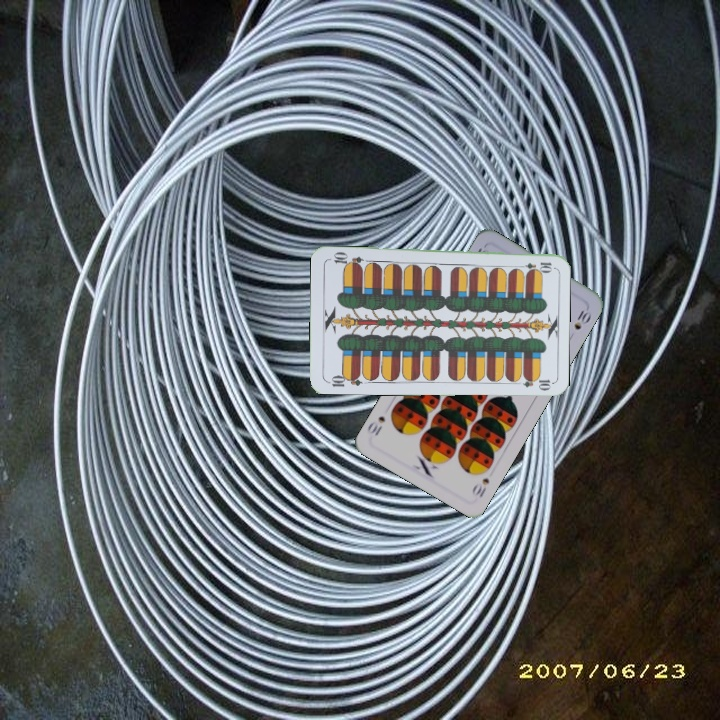E10: (324, 370, 364, 389), (514, 258, 554, 272)
S10: (468, 474, 492, 500)
